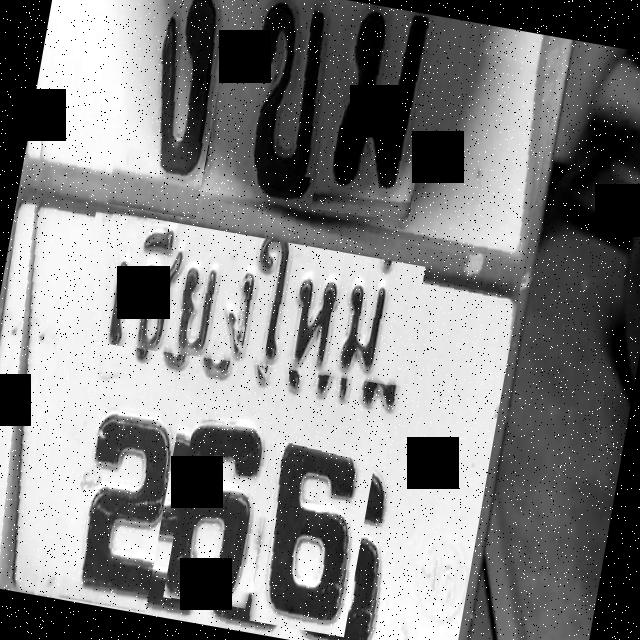letters: (310, 2, 449, 226), (99, 0, 235, 219), (51, 390, 180, 612), (238, 438, 375, 637), (162, 406, 284, 612), (220, 0, 343, 177)
license-plate: (2, 0, 559, 640)
province: (73, 208, 425, 396)
